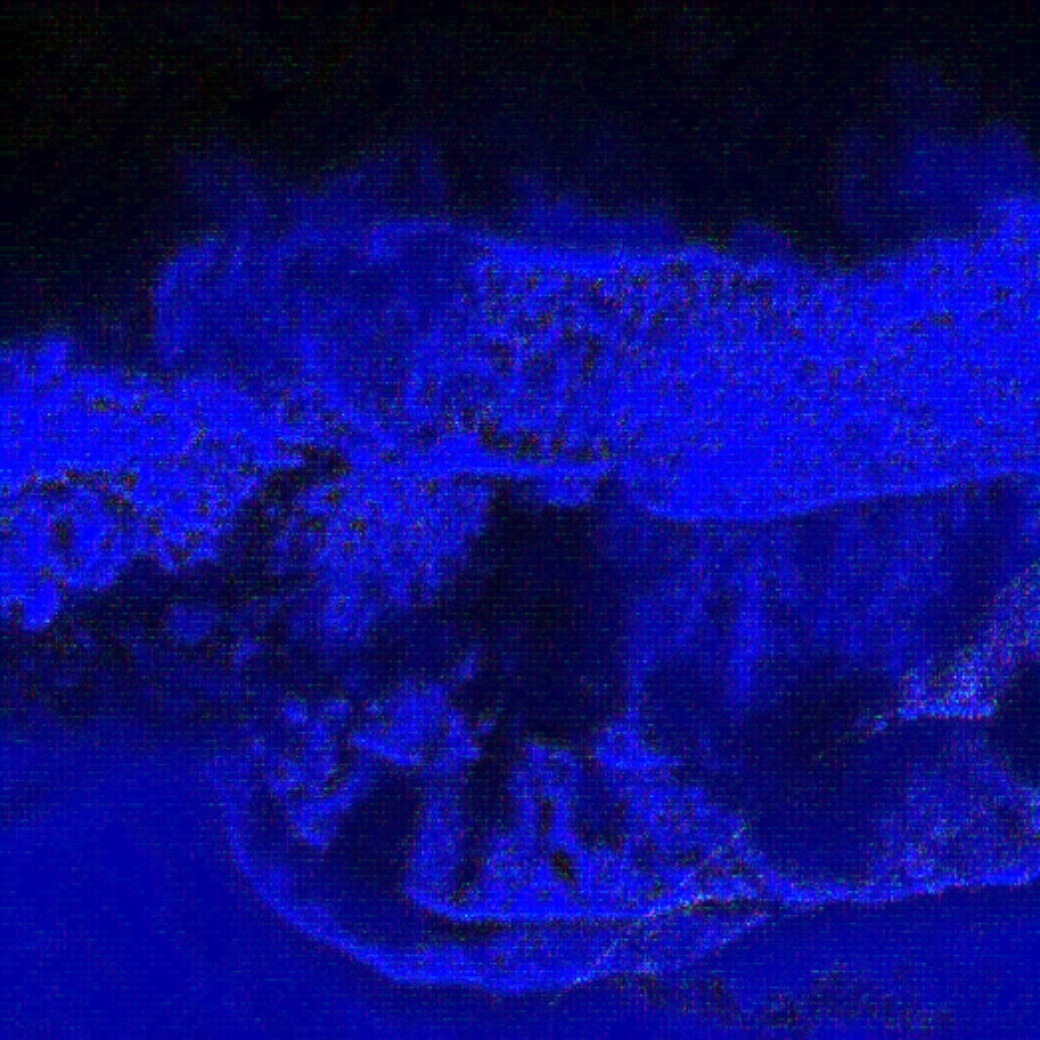rip_current: (352, 169, 703, 851)
